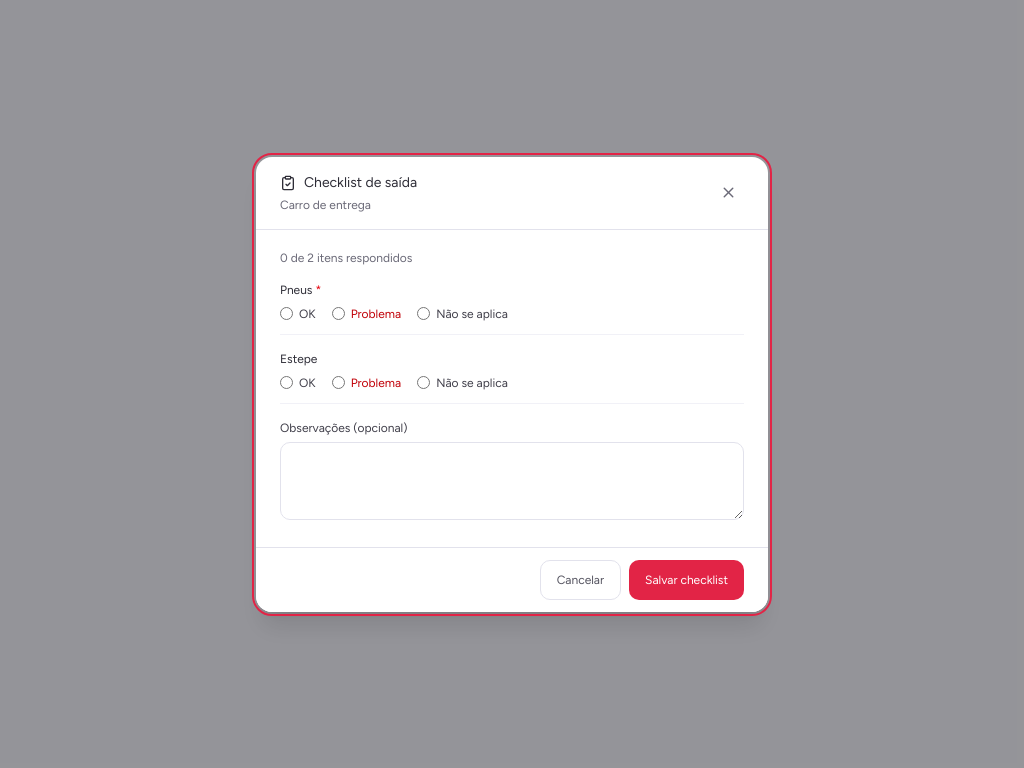
ChecklistModal com o modelo da empresa › pede a descrição quando um item tem problema
The width and height of the screenshot is (1024, 768).
Expected: the text "Pneus" is shown, [280,282,312,296]
What coordinates should you click on to do the following:
click the radio button labelled "Problema" below "Pneus"
I would click on:
 (338, 314)
Its box is [332,307,345,320].
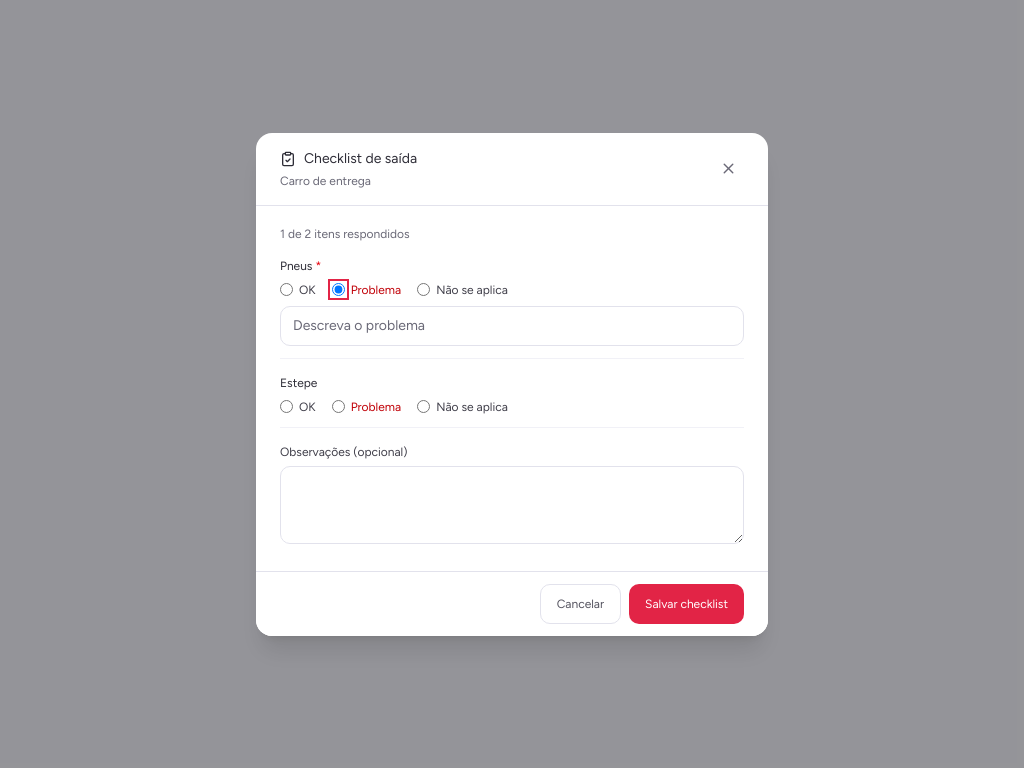
What coordinates should you click on to do the following:
click the button "Salvar checklist"
I would click on:
 (686, 604)
Its box is [629,584,744,624].
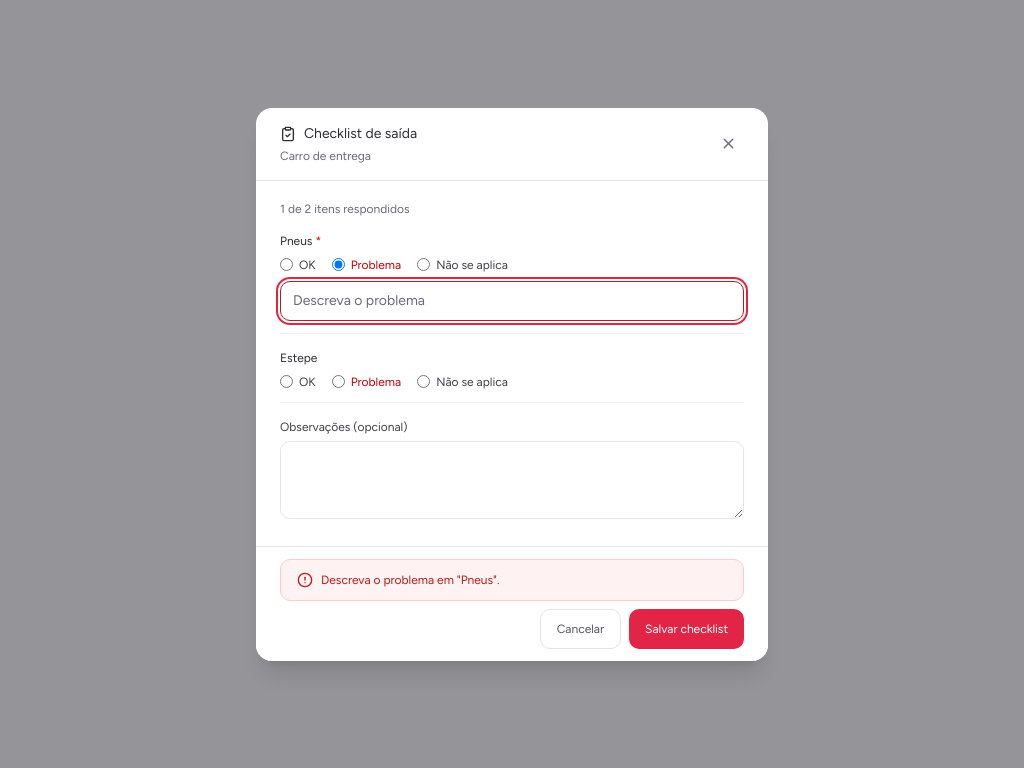
Result: the message "Descreva o problema em \"Pneus\"." reads "Descreva o problema em \"Pneus\"." at [321,572,499,586]
